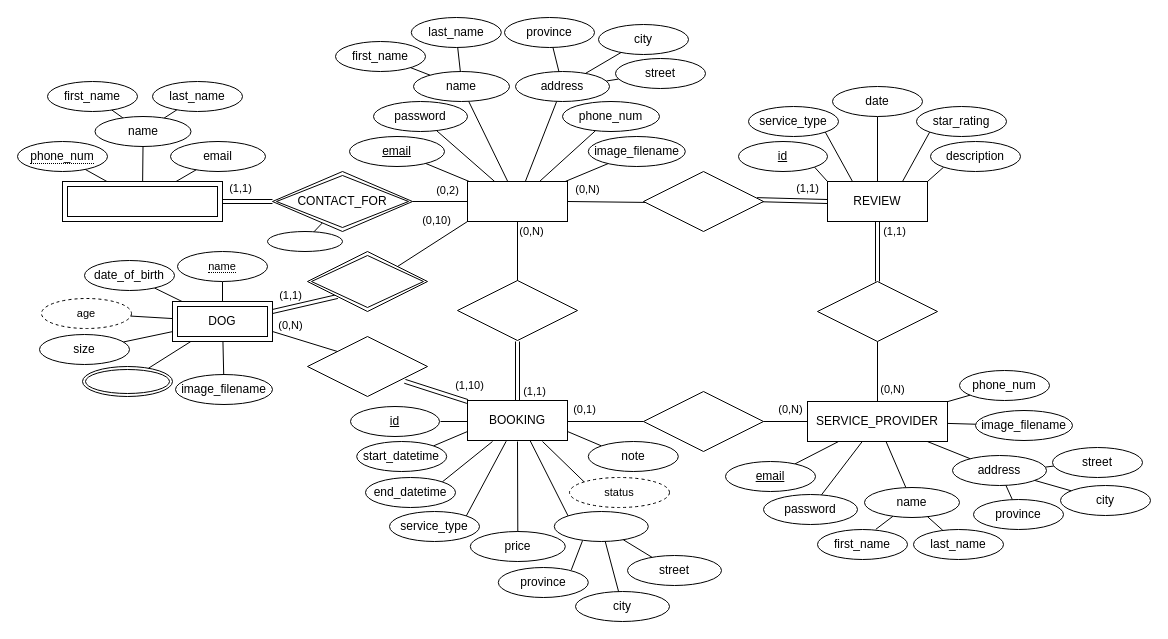
The diagram is 1168 pixels wide and 639 high, and some of its shapes have lost their labels. The centre of each missing label's shape, as x and y in pixels:
ACCEPTED_BY: point 703,421
BOOKED_IN: point 367,366
BOOKS: point 517,310
breed: point 127,381
EMERGENCY_CONTACT: point 142,201
location: point 600,526
OWNED_BY: point 367,281
OWNER: point 517,201
relationship: point 304,241
REVIEW_FOR: point 877,311
WRITES: point 703,201
